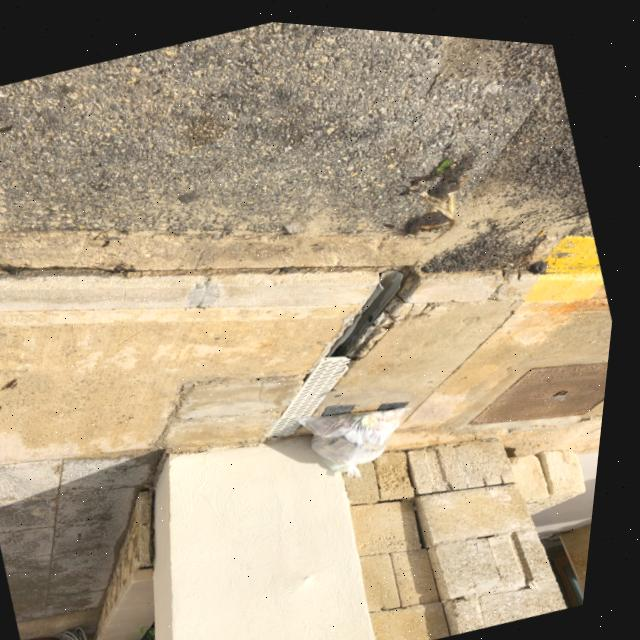Organic Waste -White Bag-: (298, 372, 433, 490)
